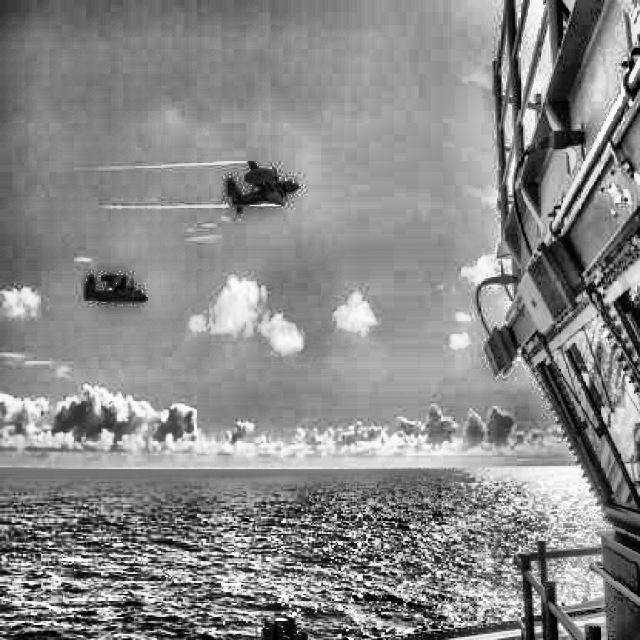E2: (227, 161, 299, 213), (84, 274, 148, 304)
